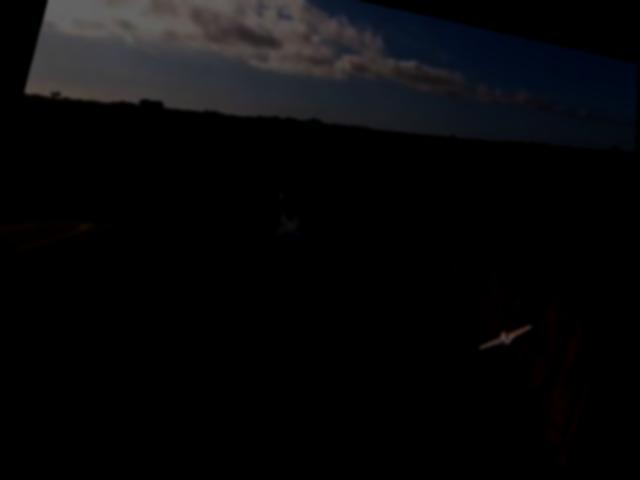uav: (477, 314, 534, 366)
